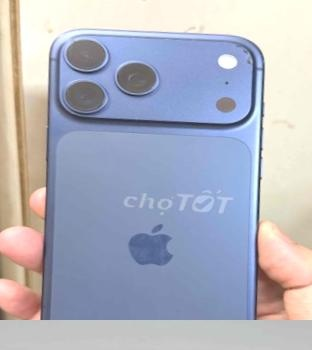scratch: (192, 20, 278, 89)
